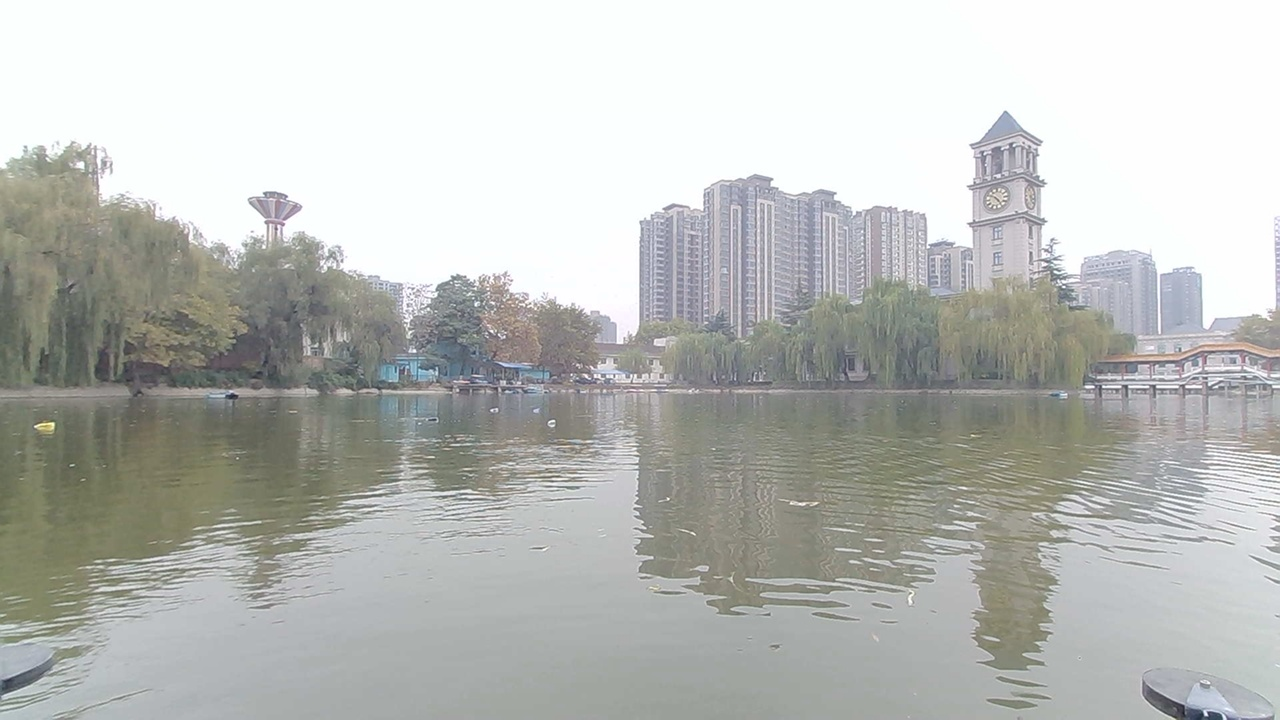bottle: (538, 410, 570, 433), (33, 415, 63, 439), (415, 408, 445, 430), (518, 401, 551, 418), (482, 401, 504, 420)
